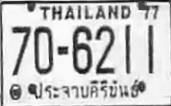0: (34, 24, 54, 74)
1: (124, 24, 130, 74), (147, 24, 153, 73)
2: (95, 24, 114, 74)
6: (72, 25, 91, 73)
7: (10, 25, 30, 75)
PKN: (30, 78, 141, 101)
